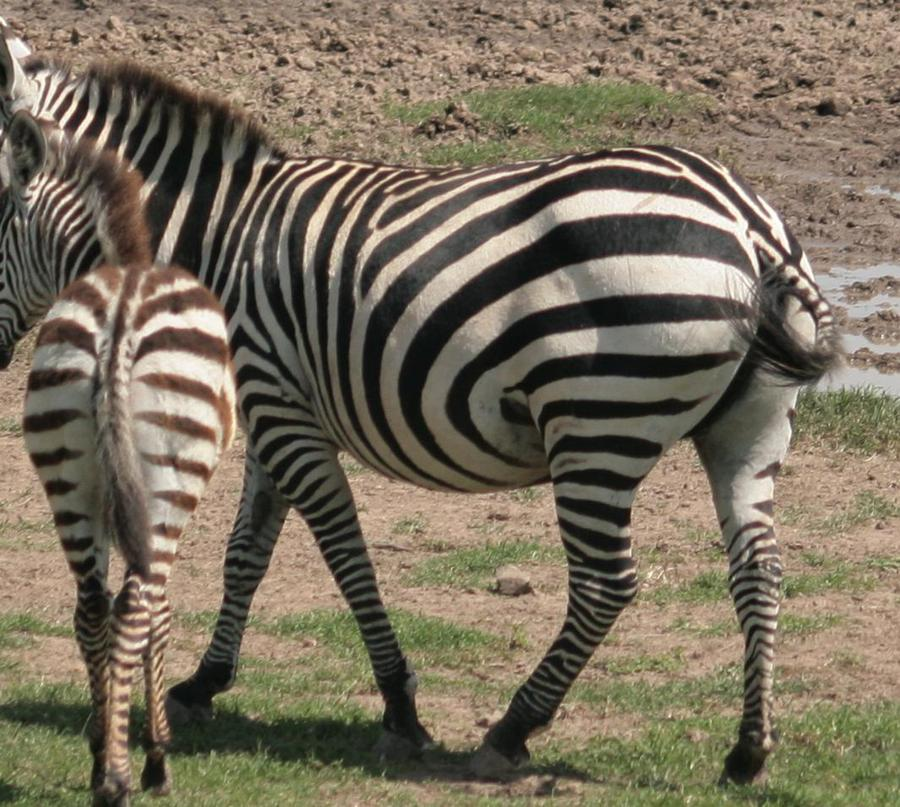zebra_plains: (165, 90, 753, 547)
